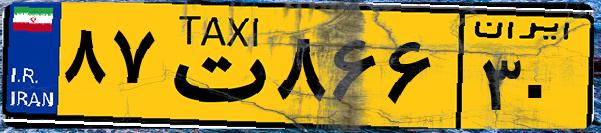0: (525, 38, 570, 115)
3: (475, 38, 525, 113)
6: (385, 28, 445, 110), (330, 28, 385, 110)
7: (110, 28, 158, 98)
8: (270, 28, 330, 110), (57, 26, 110, 100)
ت: (158, 12, 270, 120)
